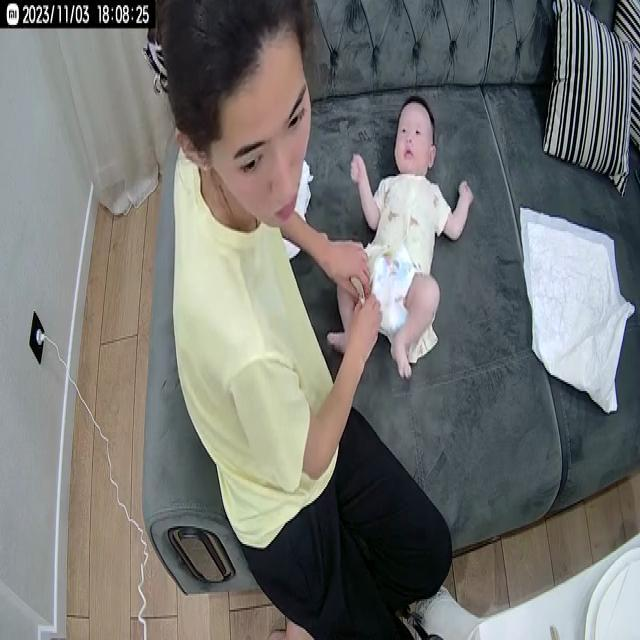baby: (325, 91, 474, 383)
